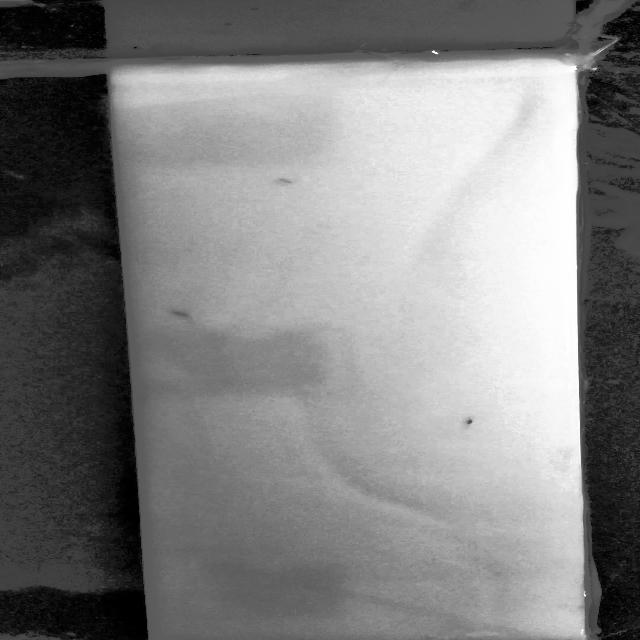shrimp: (447, 408, 487, 436), (166, 304, 201, 325)
